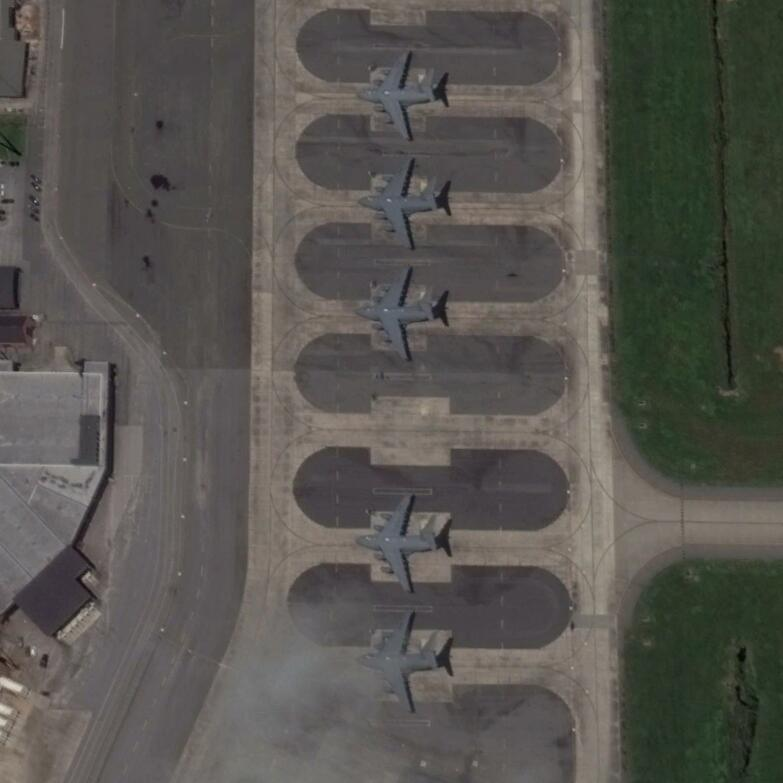A3: (357, 610, 451, 715), (359, 155, 450, 254), (357, 494, 444, 597), (354, 267, 444, 365), (357, 51, 447, 143)
